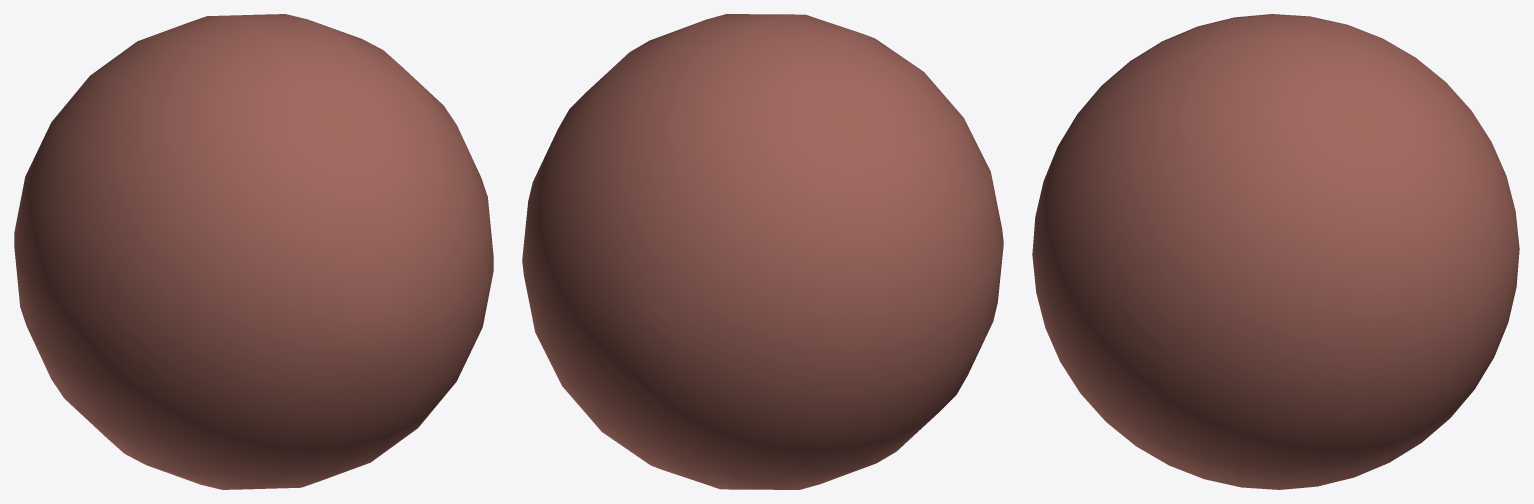
The model's file is mixamo_humanoid_joint_leftForeArm.fbx.
3 views of the same model, side by side, from view 1: azimuth 30°, elevation 25°; view 2: azimuth 150°, elevation 25°; view 3: azimuth 270°, elevation 25° (orthographic).
Visible parts, largest first — view 1: joint_LeftForeArm; view 2: joint_LeftForeArm; view 3: joint_LeftForeArm.
Part boxes in pixels (x1=…): joint_LeftForeArm: x1=14, y1=14, x2=493, y2=489; joint_LeftForeArm: x1=522, y1=14, x2=1003, y2=489; joint_LeftForeArm: x1=1032, y1=14, x2=1519, y2=489.
Size of the model in its own units: 8.04 by 8.04 by 8.17.
